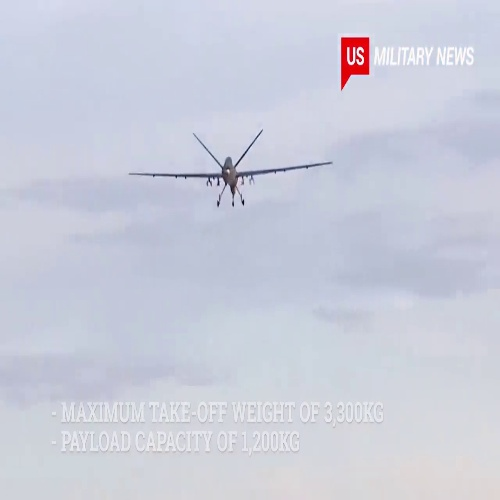uav: (125, 131, 335, 207)
